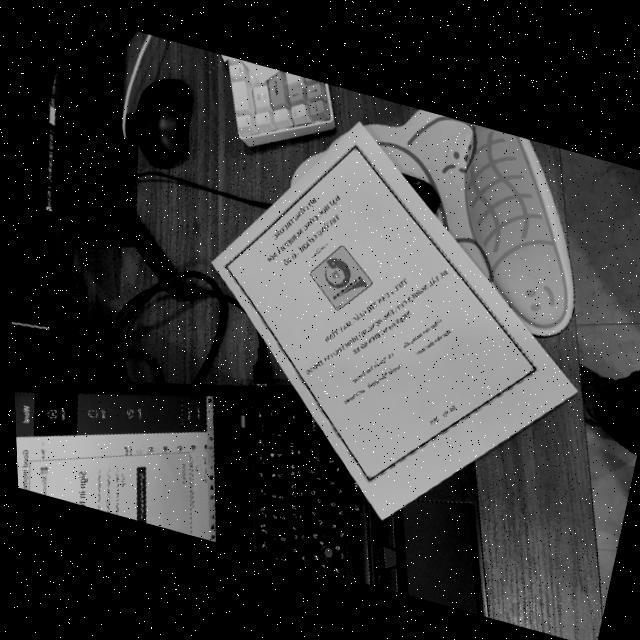document: (212, 122, 576, 519)
